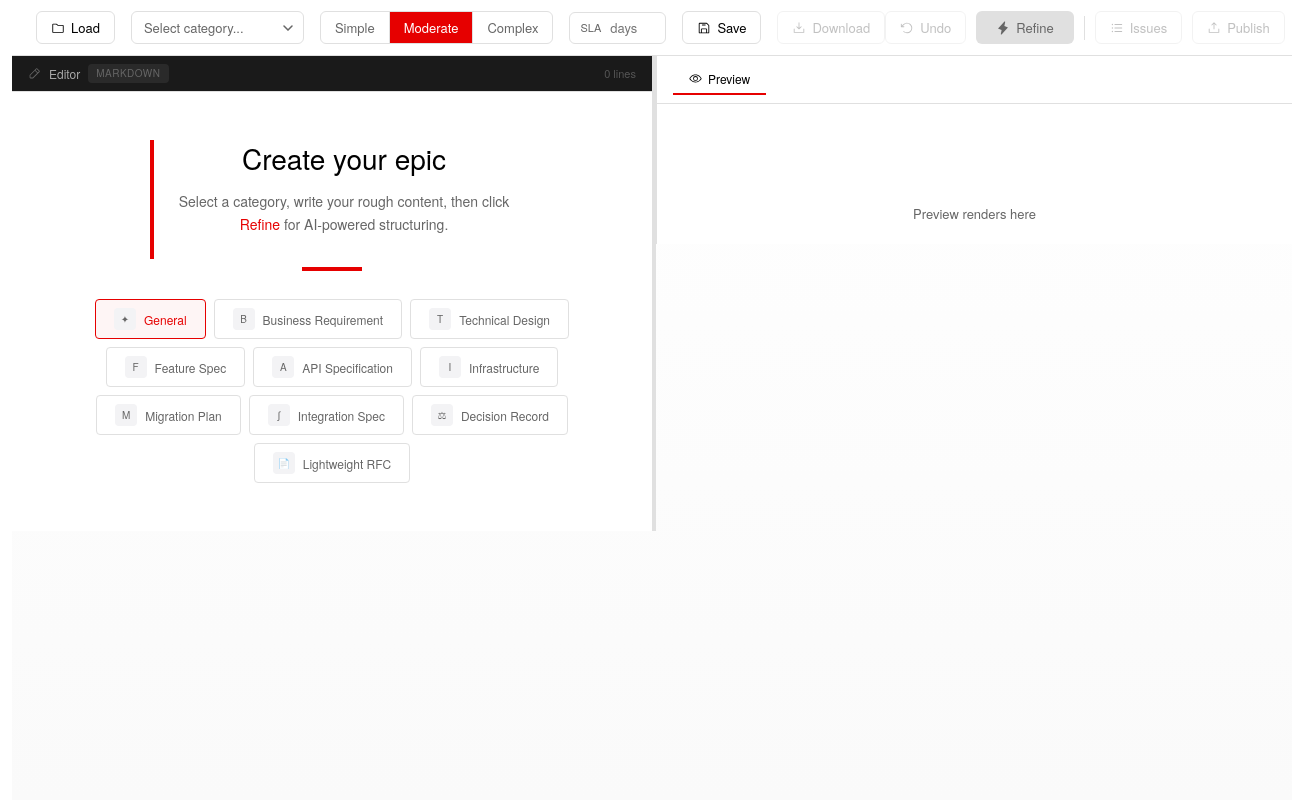
Scenario: PlannerView integration › picking category populates editor and preview
Check: the element with test id "editor-empty-state" is shown, box [95,140,569,483]
// Click Technical Design category
Click the button with test id "cat-btn-technical_design".
click(490, 319)  # box [410,299,569,339]
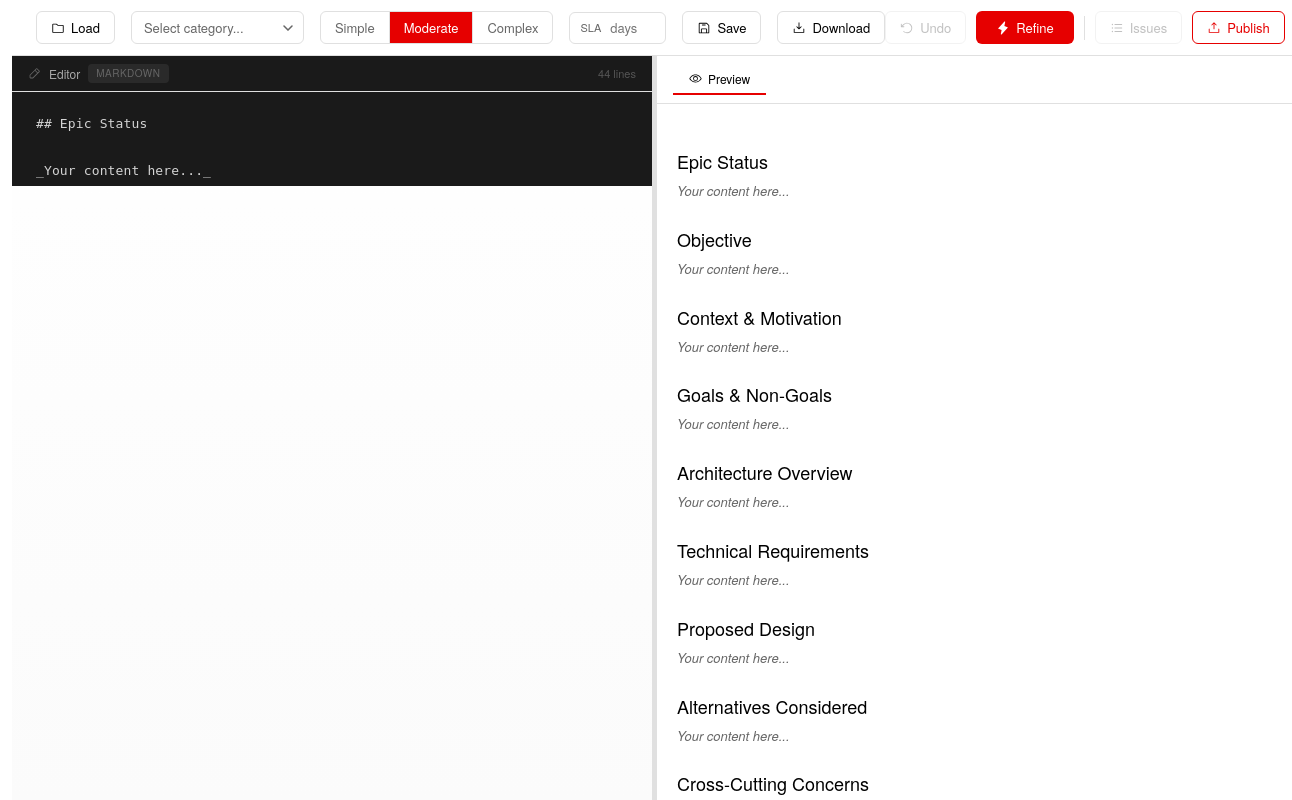
Check: the text box with test id "editor-textarea" is shown, box [12,92,652,186]
Check: the heading "Epic Status" is shown, box [677,148,768,174]
